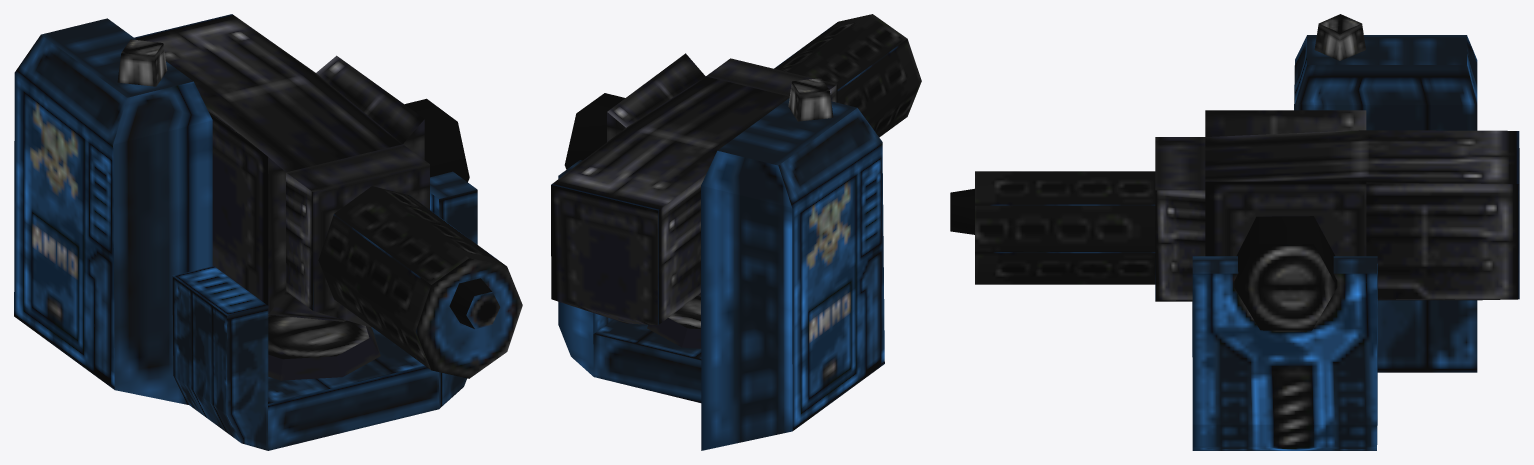
The model's file is sentry1.glb.
The picture shows the model from 3 angles, left to right: view 1: azimuth 30°, elevation 25°; view 2: azimuth 150°, elevation 25°; view 3: azimuth 270°, elevation 25°; orthographic projection. The views are drawn at different scales.
Parts seen in each view (by area): view 1: sentry1; view 2: sentry1; view 3: sentry1.
Boxes of the visible parts, x1,y1,x2,y2 form: sentry1: (14, 14, 522, 450); sentry1: (551, 14, 921, 450); sentry1: (950, 14, 1519, 450).
Bounding box in the file's own units: 27.61 × 28.95 × 45.34.
2 materials, 2 textured.
